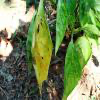Bell_pepper leaf spot: (31, 4, 54, 100), (60, 38, 82, 99), (54, 0, 69, 58), (25, 10, 35, 78), (82, 20, 99, 38)
